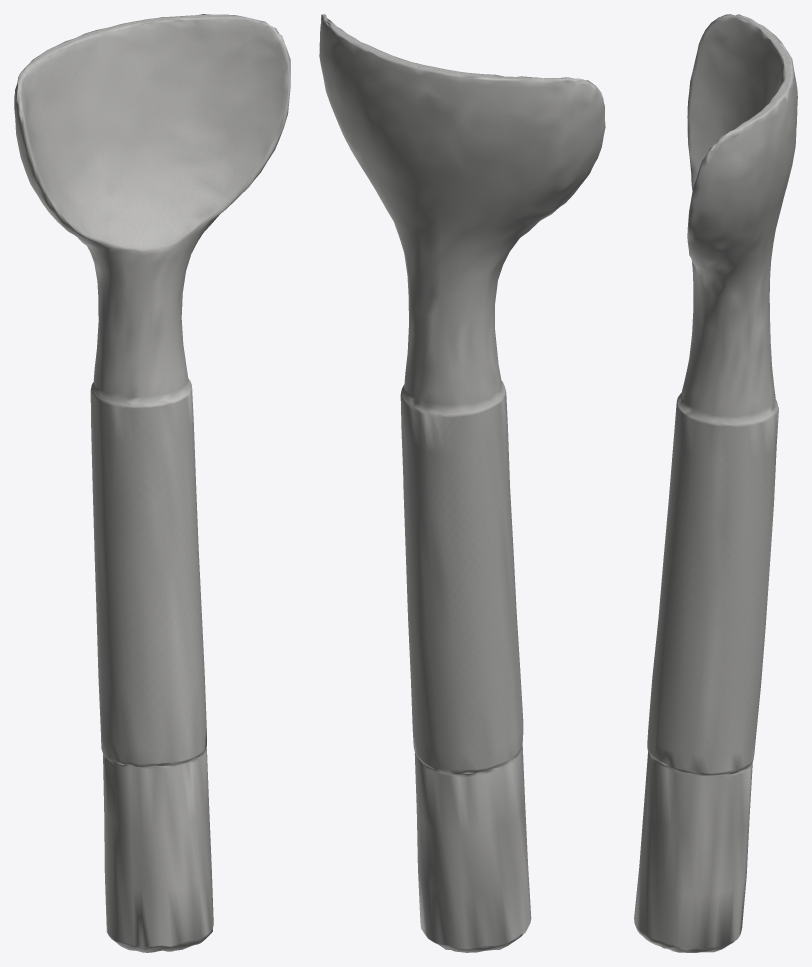
Rendered from norma_3D.glb.
3 views of the same model, side by side, from view 1: azimuth 30°, elevation 25°; view 2: azimuth 150°, elevation 25°; view 3: azimuth 270°, elevation 25° (orthographic). The views are drawn at different scales.
Visible parts, largest first — view 1: Mesh_0.001; view 2: Mesh_0.001; view 3: Mesh_0.001.
Part boxes in pixels (x1,y1,x2,y2): Mesh_0.001: [14, 14, 290, 952]; Mesh_0.001: [319, 14, 605, 952]; Mesh_0.001: [634, 14, 797, 952].
Size of the model in its own units: 0.0961 by 0.3 by 0.0511.
Materials: 1 (1 with a texture image).
